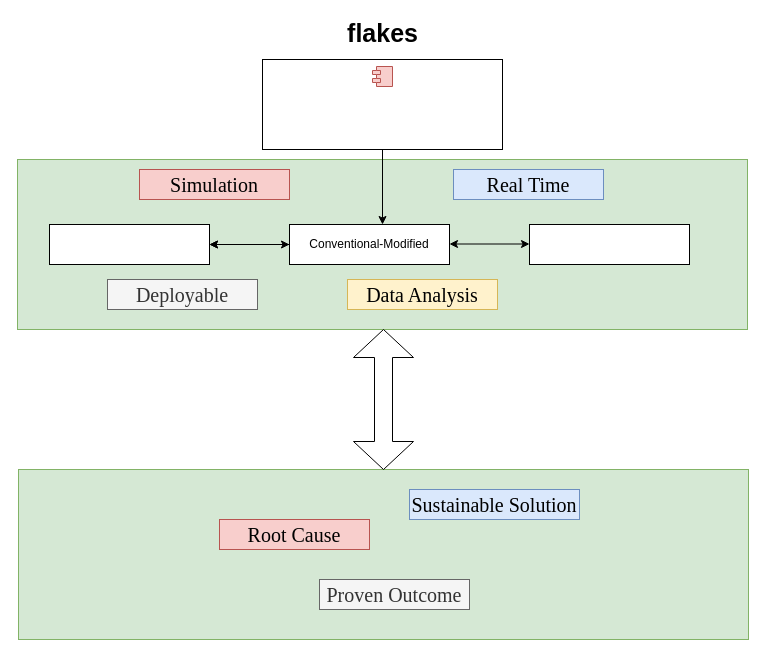
This 766x657 diagram has some shape labels left out. Here are the shapes that lost their labels. From the top down, the centre of each, then its label:
point (382, 104): «Developing Advanced Control Strategy»
point (129, 244): MPC
point (609, 244): Machine Learning
